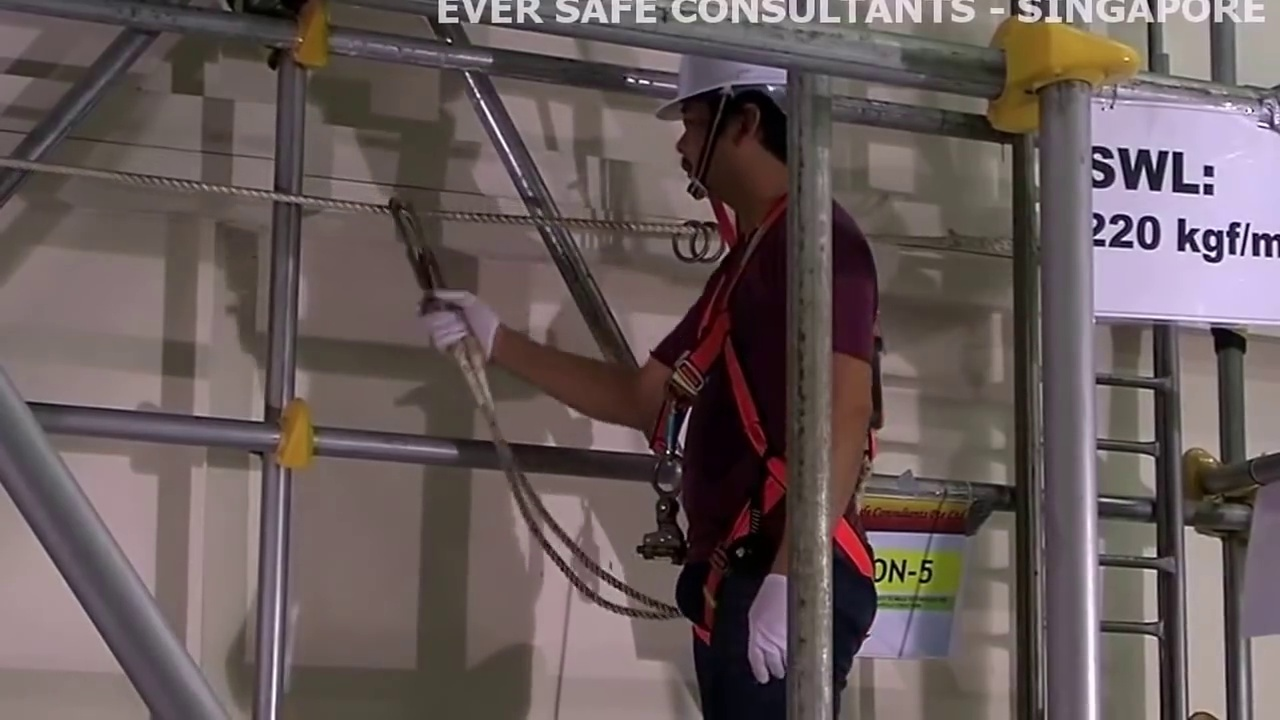harness: (668, 257, 774, 568)
helmet: (663, 63, 777, 106)
hook: (383, 193, 447, 290)
leash: (473, 429, 636, 651)
